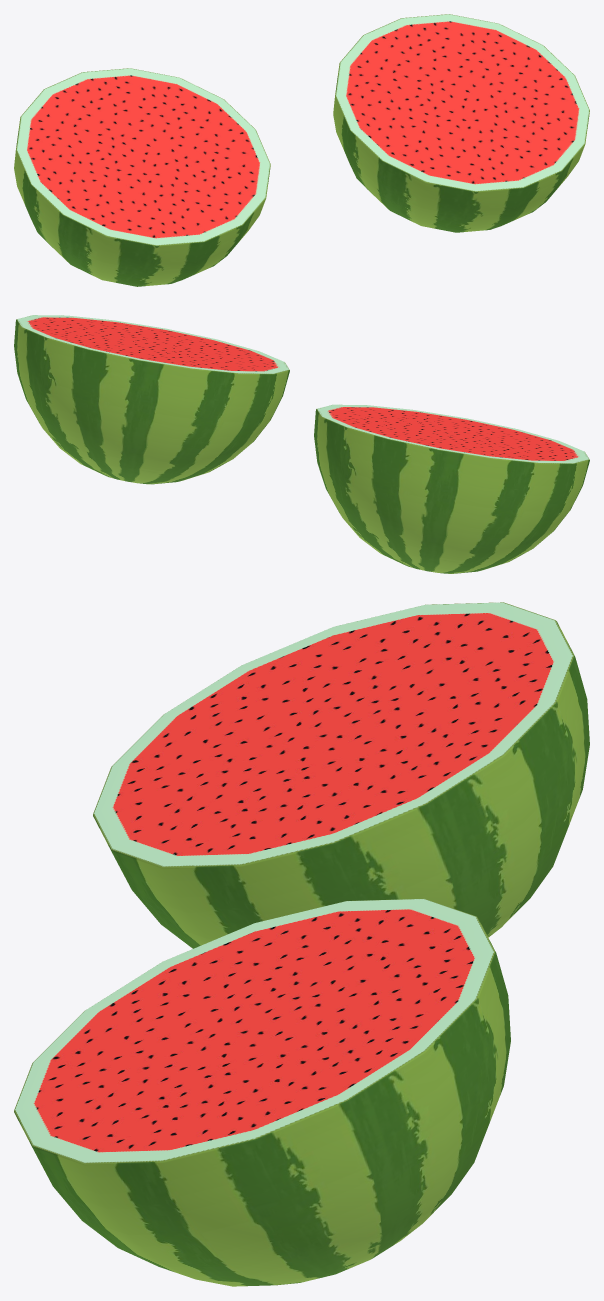
File: Watermelon_half.glb
3 views of the same model, one above another, from view 1: azimuth 30°, elevation 25°; view 2: azimuth 150°, elevation 25°; view 3: azimuth 270°, elevation 25° (orthographic). The views are drawn at different scales.
Parts seen in each view (by area): view 1: Watermelon_Half_watermelon_half_0, Watermelon_Half_watermelon_half_0.001; view 2: Watermelon_Half_watermelon_half_0.001, Watermelon_Half_watermelon_half_0; view 3: Watermelon_Half_watermelon_half_0.001, Watermelon_Half_watermelon_half_0.
Boxes of the visible parts, <box> form: Watermelon_Half_watermelon_half_0: <box>14,68,270,286</box>; Watermelon_Half_watermelon_half_0.001: <box>333,14,589,232</box>; Watermelon_Half_watermelon_half_0.001: <box>14,315,289,484</box>; Watermelon_Half_watermelon_half_0: <box>314,404,589,573</box>; Watermelon_Half_watermelon_half_0.001: <box>14,898,510,1286</box>; Watermelon_Half_watermelon_half_0: <box>93,602,589,948</box>.
Bounding box in the file's own units: 0.5688 × 0.1681 × 0.2743.
1 material, 1 textured.
